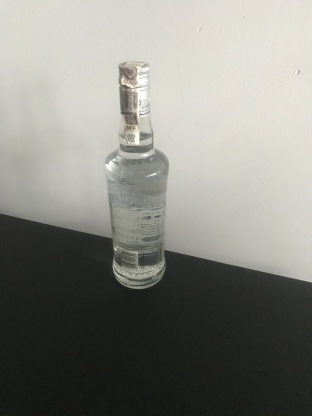nakretka: (116, 58, 152, 118)
